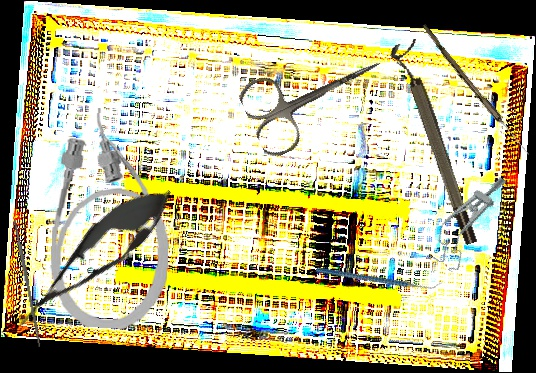Cannula: (47, 106, 176, 331)
Chopper: (315, 227, 443, 327)
Fixation Ring: (387, 38, 482, 250)
Iris Scissors: (234, 28, 398, 162)
Micro Scissor: (1, 170, 185, 344)
Scalpel Handle: (12, 219, 43, 348)
Speculum: (422, 164, 514, 275)
Surgical Spoon: (418, 23, 533, 157)
